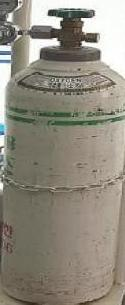cylinder: (1, 1, 125, 305)
